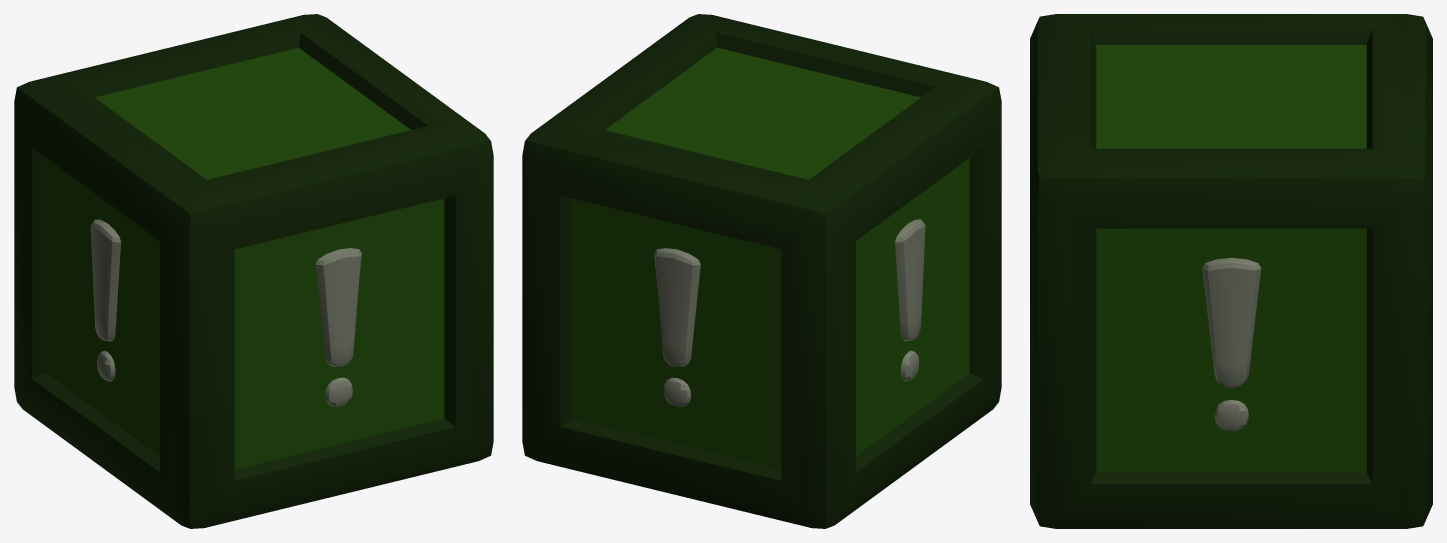
Rendered from Cube_Exclamation.fbx.
3 renders of one model, left to right at view 1: azimuth 30°, elevation 25°; view 2: azimuth 150°, elevation 25°; view 3: azimuth 270°, elevation 25°, orthographic. The views are drawn at different scales.
Parts seen in each view (by area): view 1: Cube_Exclamation; view 2: Cube_Exclamation; view 3: Cube_Exclamation.
Part boxes in pixels (x1,y1,x2,y2): Cube_Exclamation: (14,14,493,528); Cube_Exclamation: (522,14,1001,528); Cube_Exclamation: (1030,14,1432,528).
Bounding box in the file's own units: 79.56 × 79.56 × 79.56.
